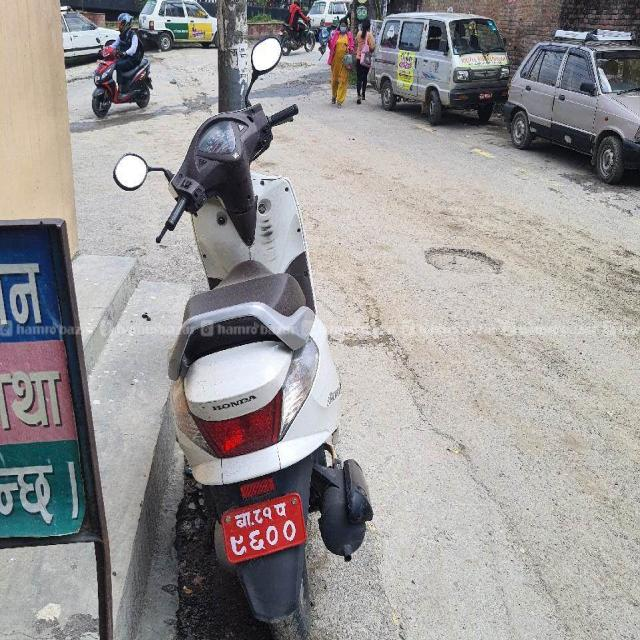License-plate: (212, 498, 322, 564)
